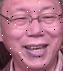without_mask: (2, 2, 63, 71)
